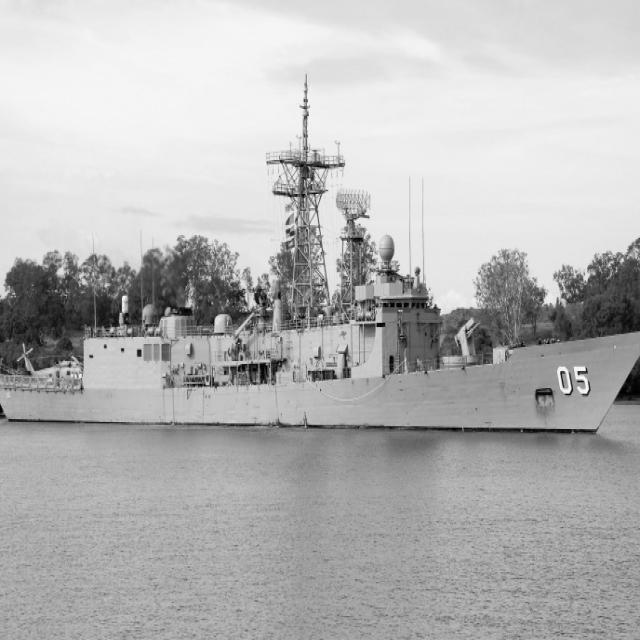Fragata: (1, 61, 640, 444)
